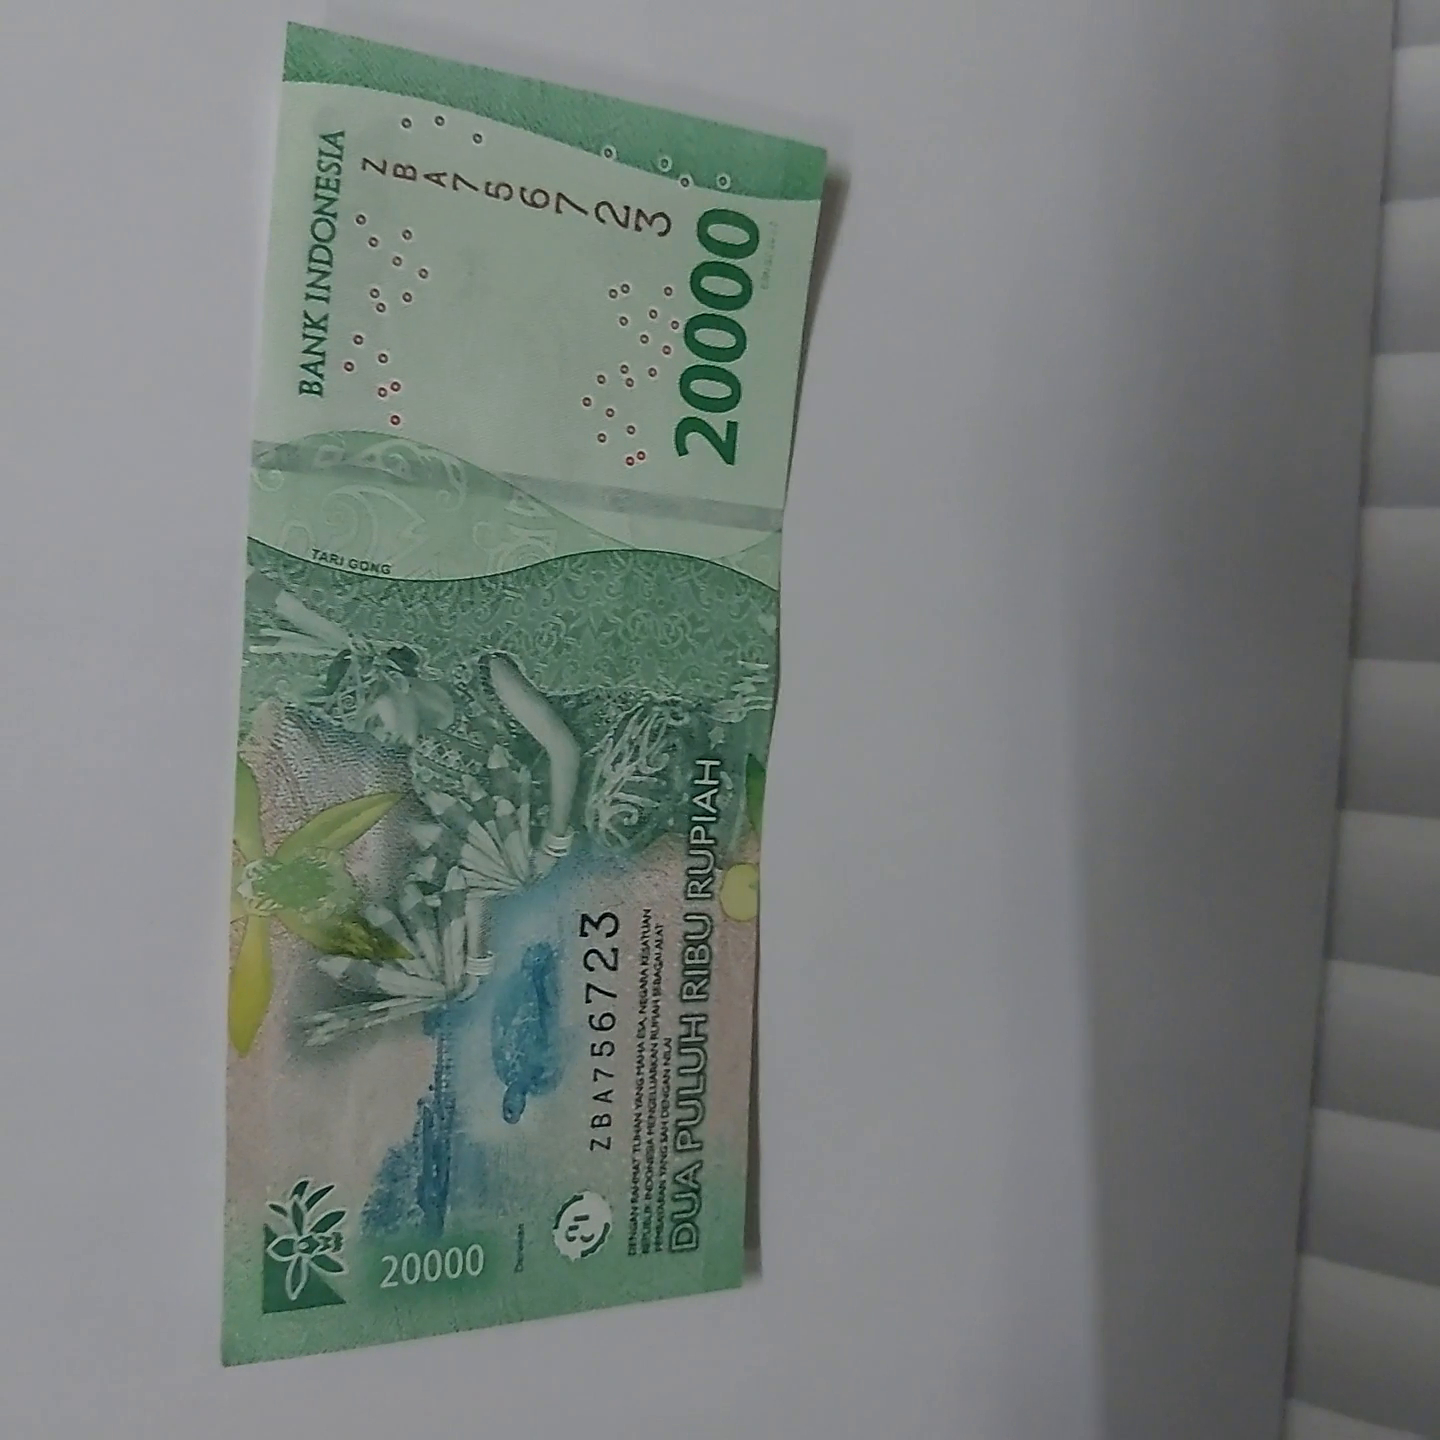20k: (245, 34, 781, 1311)
